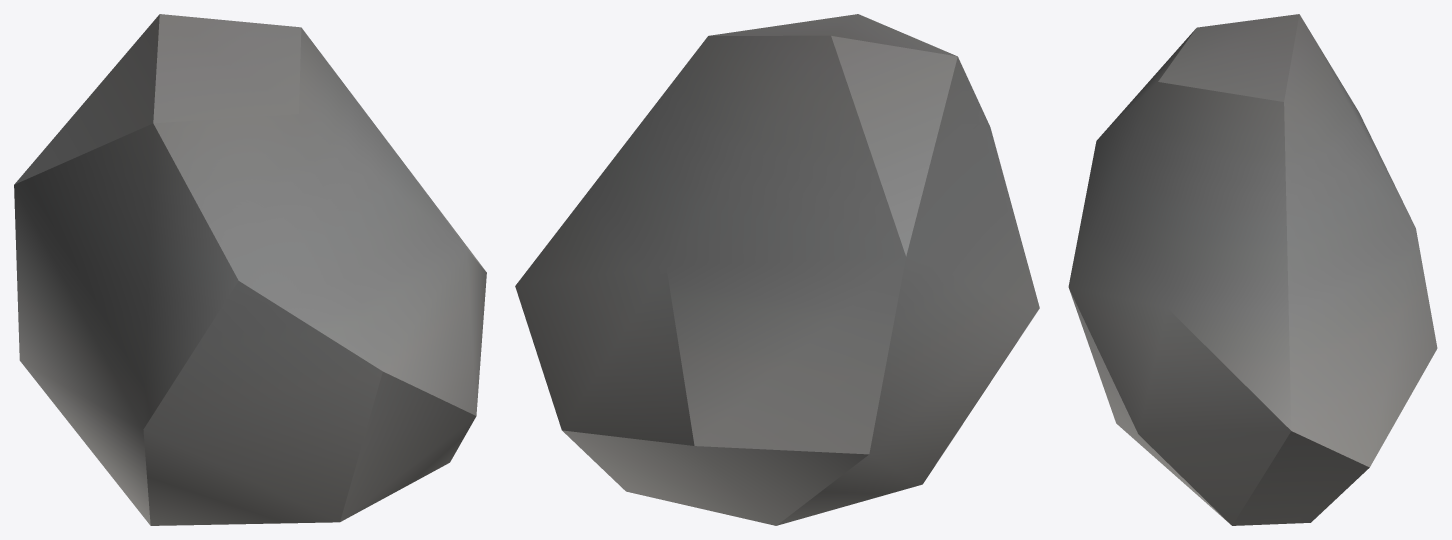
The model's file is IronNugget2.fbx.
3 renders of one model, left to right at view 1: azimuth 30°, elevation 25°; view 2: azimuth 150°, elevation 25°; view 3: azimuth 270°, elevation 25°, orthographic. The views are drawn at different scales.
Visible parts, largest first — view 1: IronNugget2_LOD0; view 2: IronNugget2_LOD0; view 3: IronNugget2_LOD0.
Boxes of the visible parts, left/top/right/bottom form: IronNugget2_LOD0: left=14, top=14, right=486, bottom=525; IronNugget2_LOD0: left=515, top=14, right=1039, bottom=525; IronNugget2_LOD0: left=1068, top=14, right=1437, bottom=525.
Size of what is drawn, in the model's own units: 0.5817 by 0.6407 by 0.5027.
